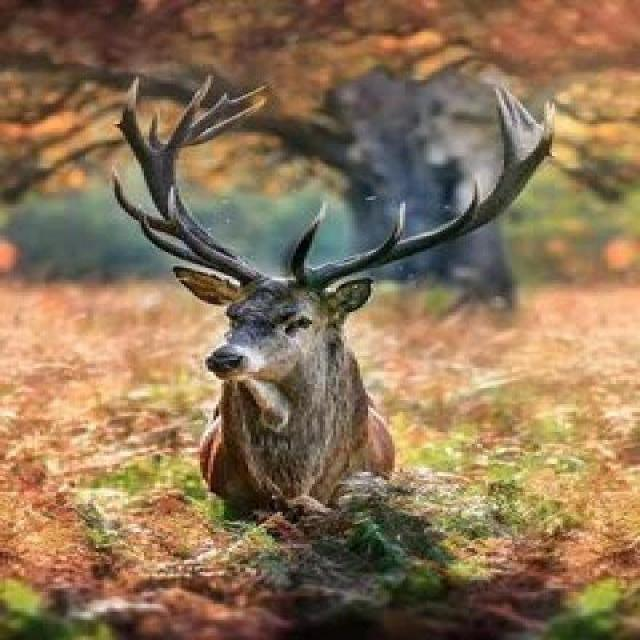deer: (84, 140, 598, 552)
